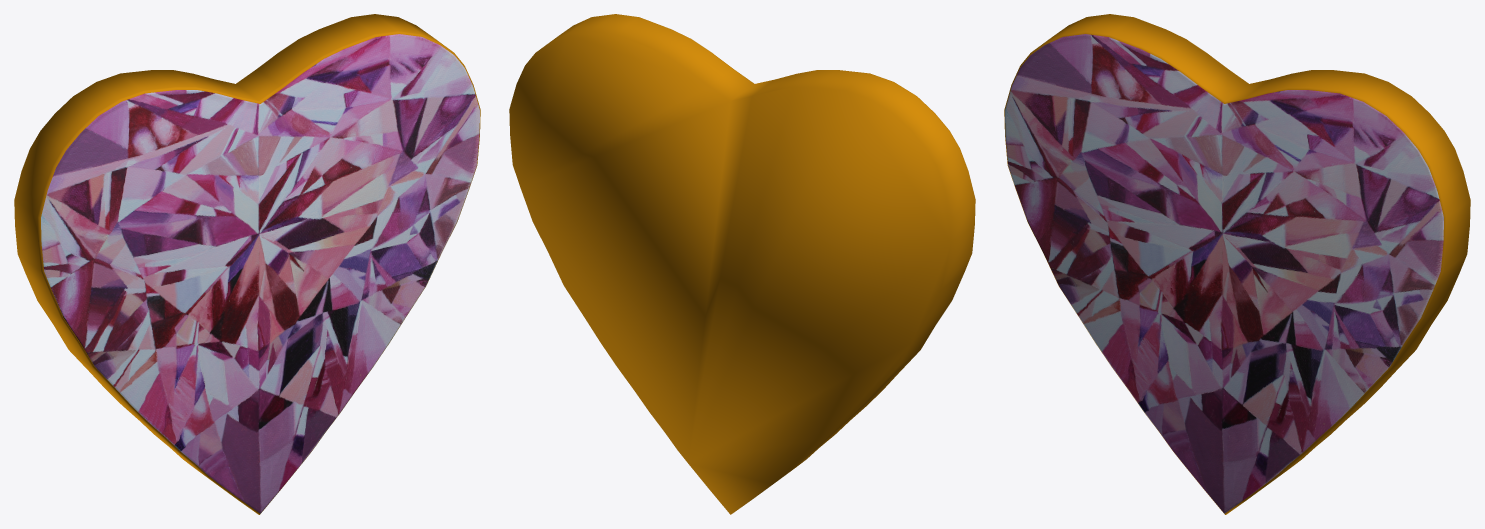
File: harriet.glb
3 views of the same model, side by side, from view 1: azimuth 30°, elevation 25°; view 2: azimuth 150°, elevation 25°; view 3: azimuth 330°, elevation 25° (orthographic).
Visible parts, largest first — view 1: harriet; view 2: harriet; view 3: harriet.
Boxes of the visible parts, x1,y1,x2,y2 form: harriet: [14, 14, 480, 514]; harriet: [509, 14, 975, 514]; harriet: [1004, 14, 1470, 514].
Size of the model in its own units: 0.3053 by 0.2983 by 0.03.
Materials: 2 (1 with a texture image).
